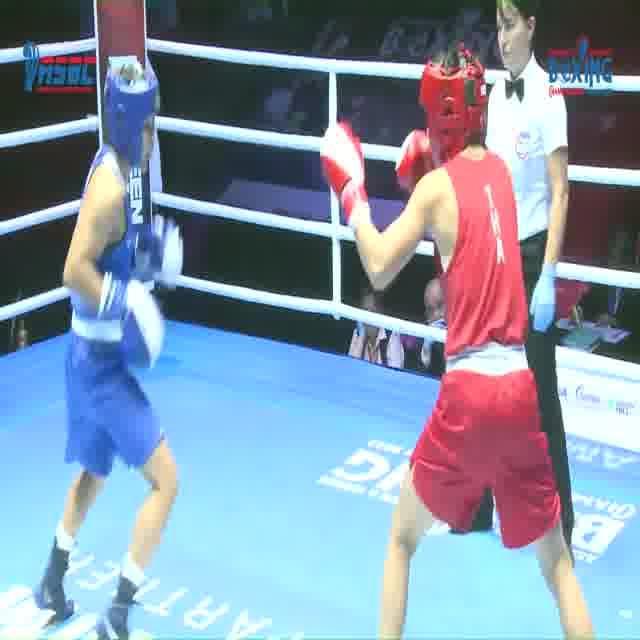blue-player: (36, 56, 184, 640)
red-player: (317, 41, 598, 640)
referee: (448, 0, 574, 565)
